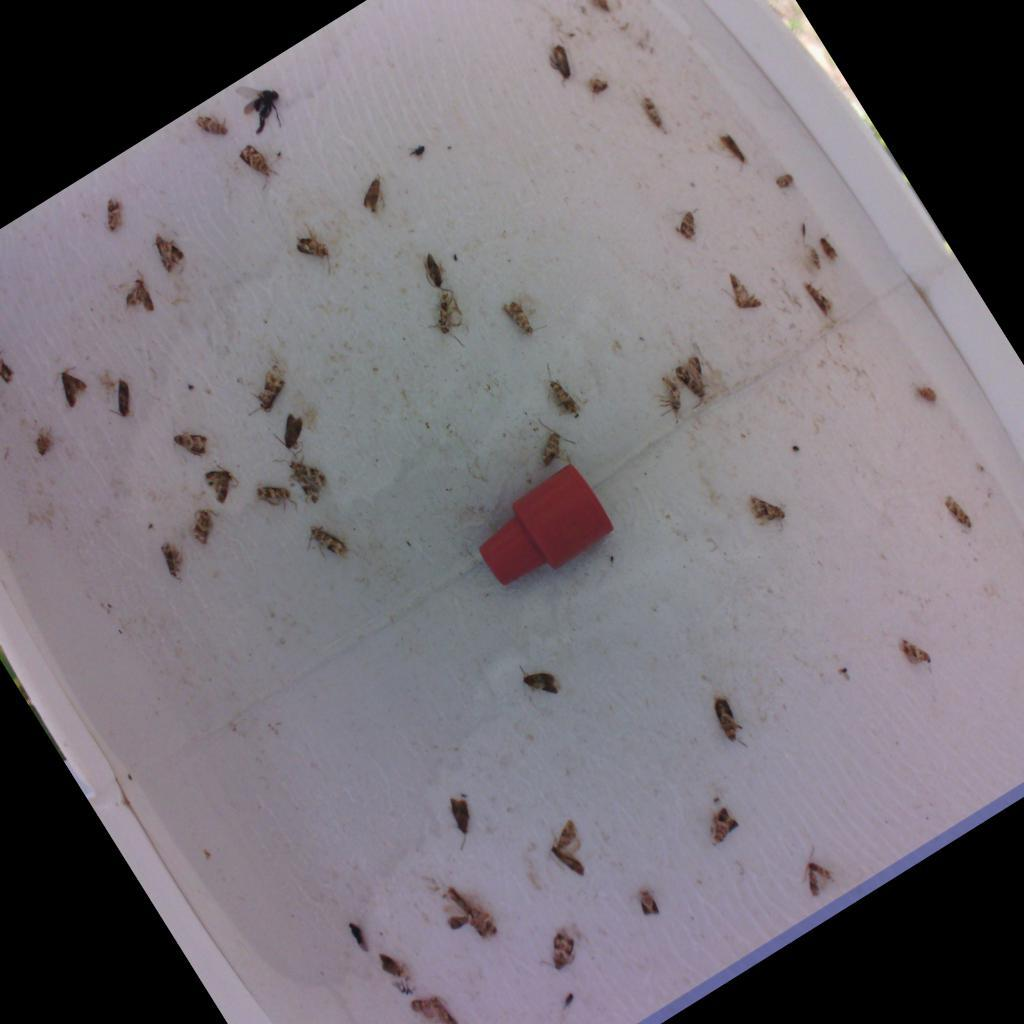grape_moth: (436, 880, 505, 946), (272, 441, 331, 506), (232, 365, 294, 423), (295, 512, 352, 572), (665, 348, 720, 409), (424, 285, 474, 351), (541, 816, 592, 880), (641, 368, 695, 427), (526, 414, 580, 473), (289, 221, 340, 280), (235, 139, 286, 197), (539, 358, 584, 420), (180, 496, 232, 549), (252, 469, 302, 522), (499, 290, 549, 342), (165, 412, 213, 466), (196, 454, 244, 505), (796, 838, 835, 899), (406, 982, 464, 1023), (712, 692, 752, 751), (144, 224, 190, 273), (538, 921, 581, 973), (152, 534, 195, 582), (116, 269, 159, 317), (746, 488, 789, 535), (721, 268, 764, 315), (701, 801, 744, 848), (892, 627, 935, 673), (190, 102, 232, 146), (633, 91, 671, 139), (798, 270, 837, 316), (91, 192, 132, 234), (939, 487, 976, 533), (668, 206, 707, 245), (628, 880, 665, 921), (581, 67, 613, 99), (27, 424, 58, 457)
